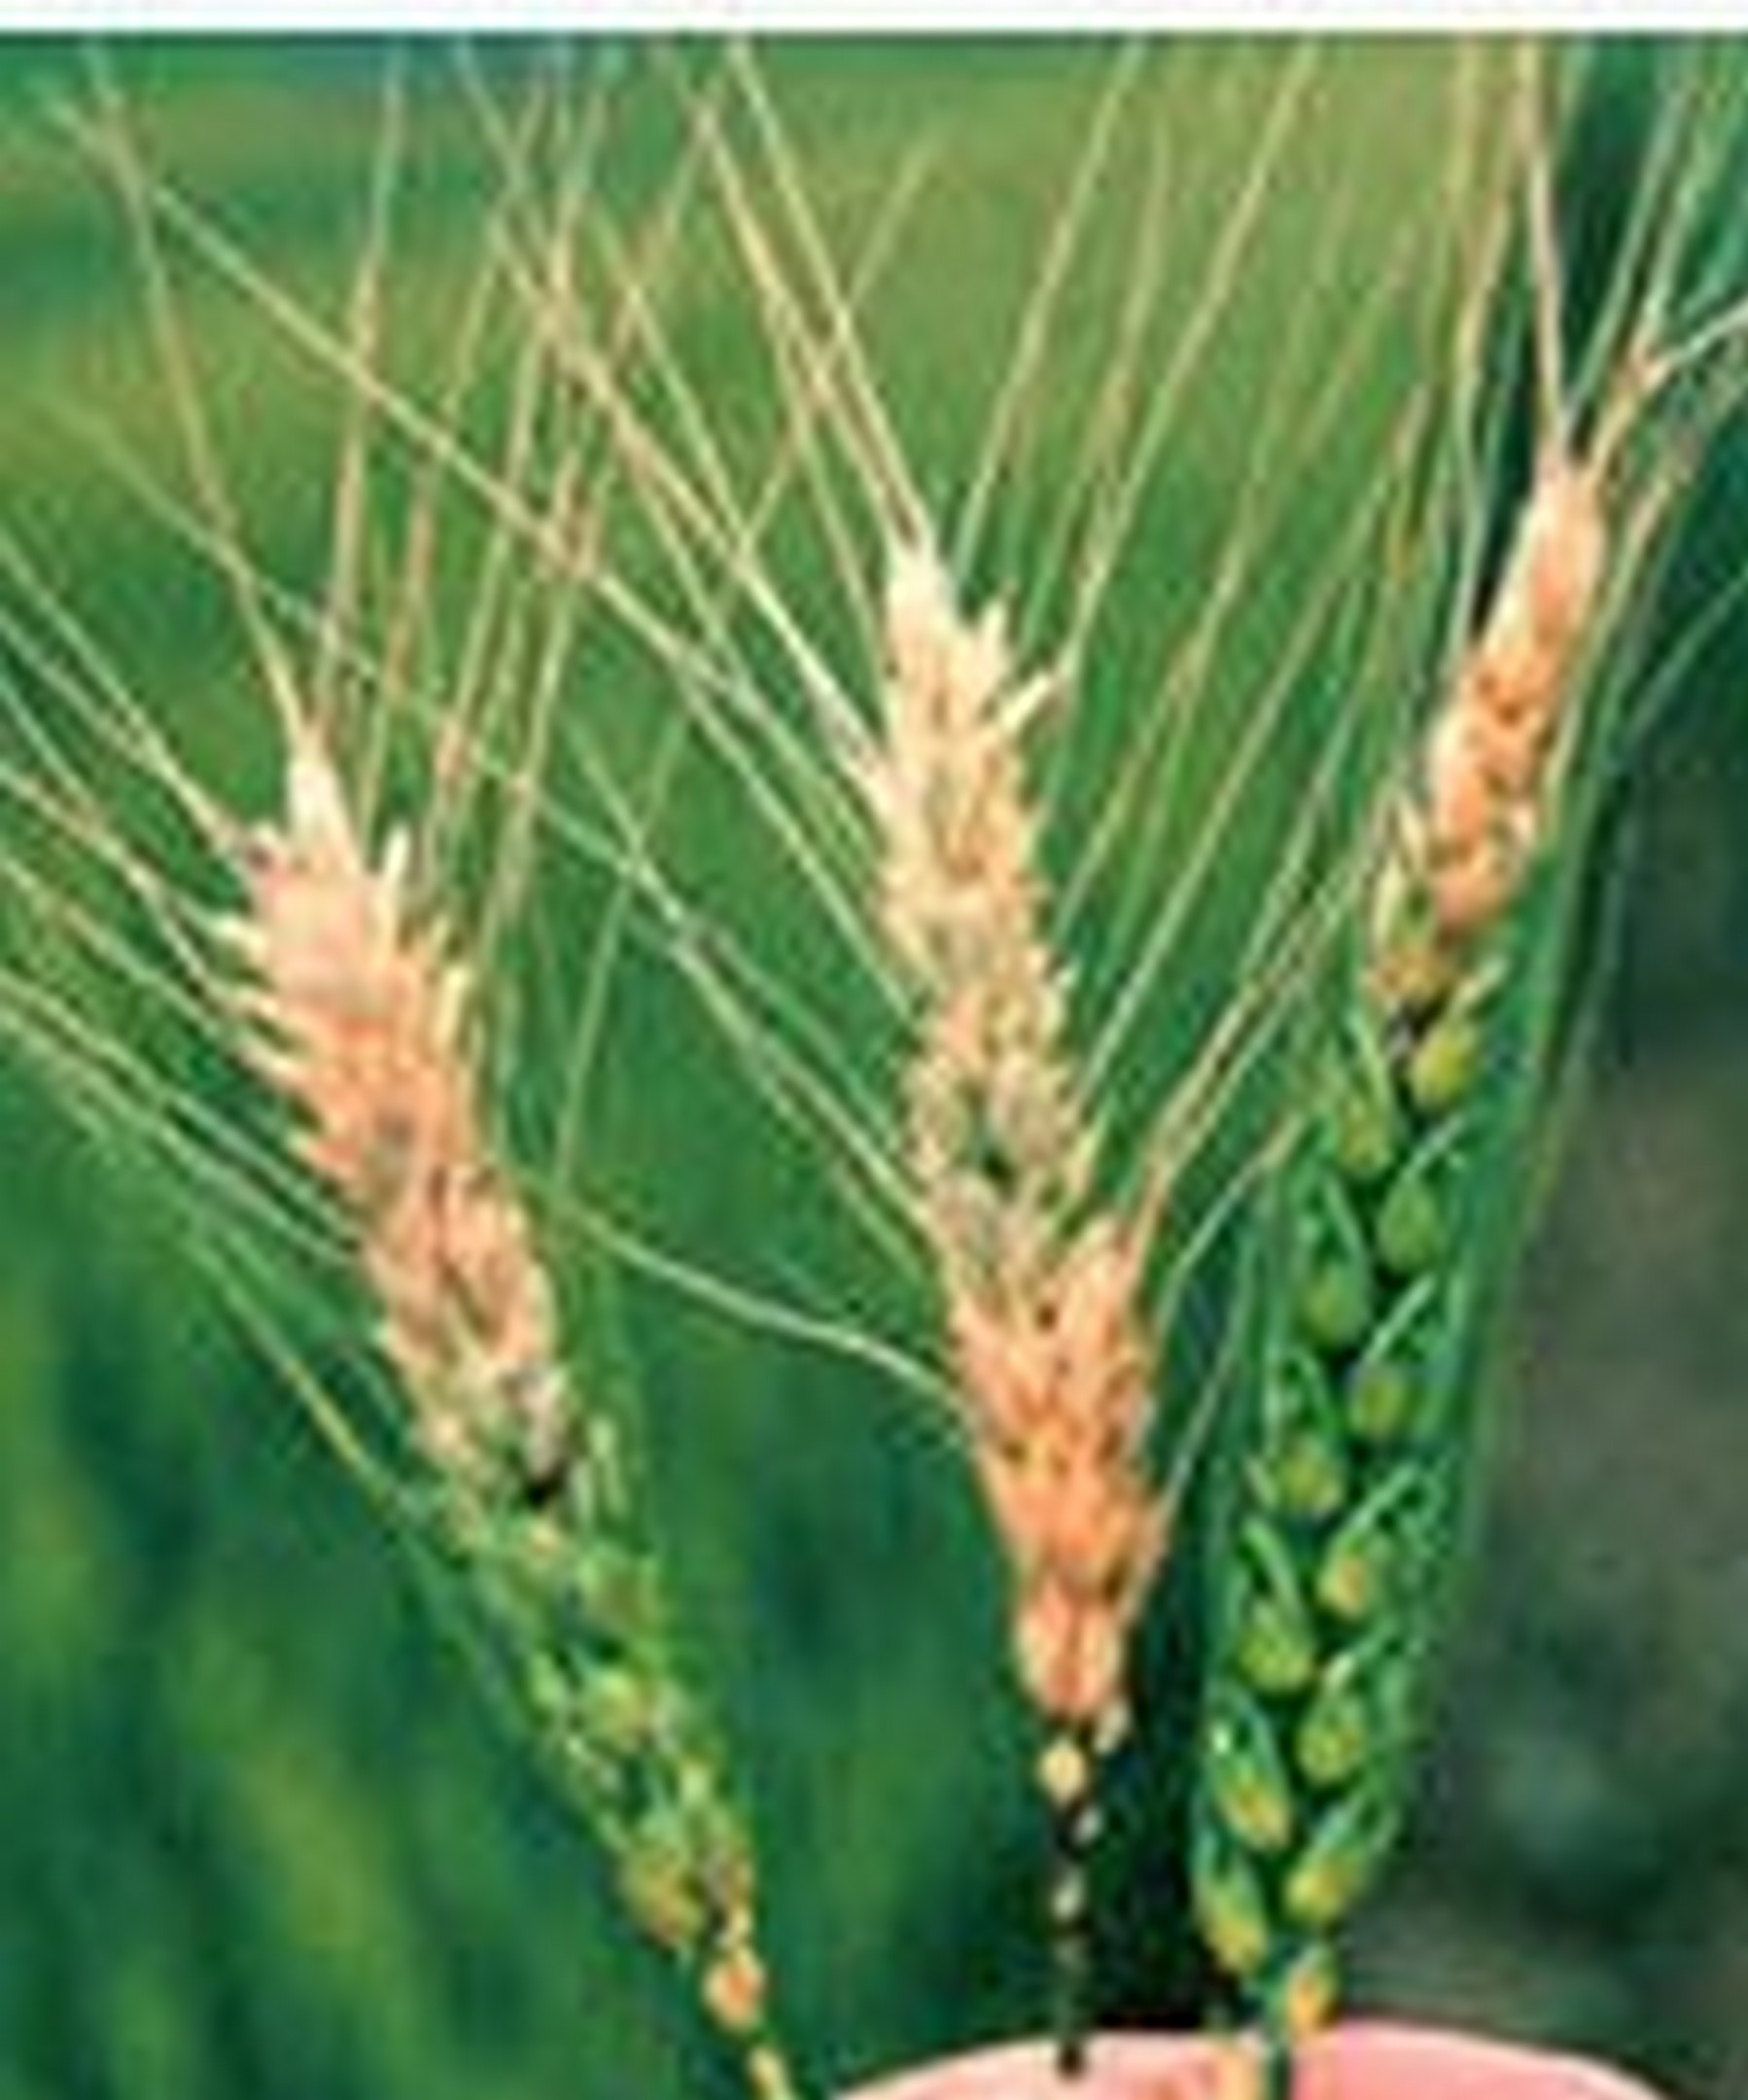Wheat scab: (1190, 497, 1689, 2018), (159, 792, 757, 2022), (761, 569, 1158, 1751)
